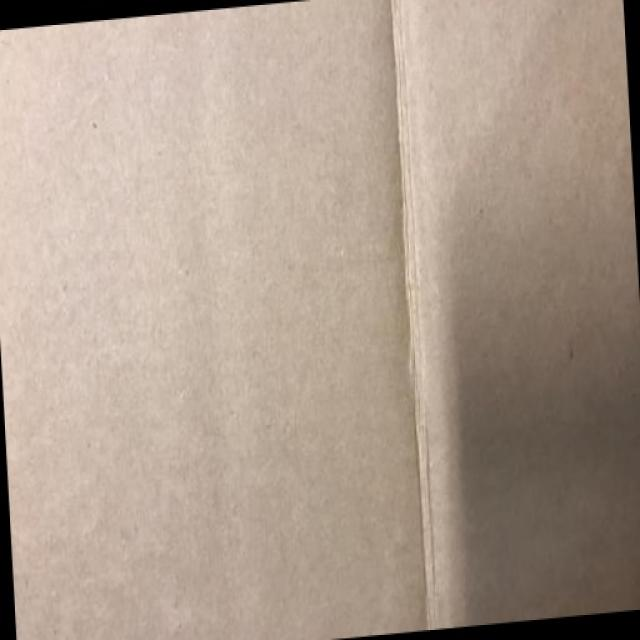carton: (5, 13, 639, 640)
